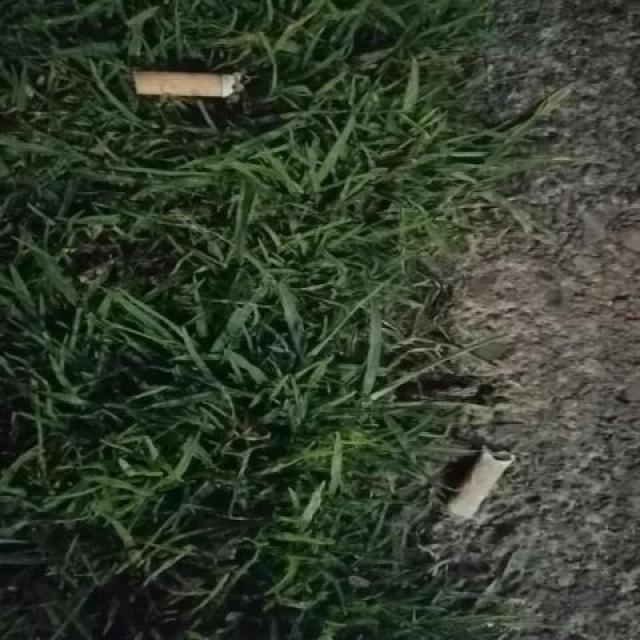non-organic waste: (438, 433, 517, 535), (125, 61, 247, 107)
